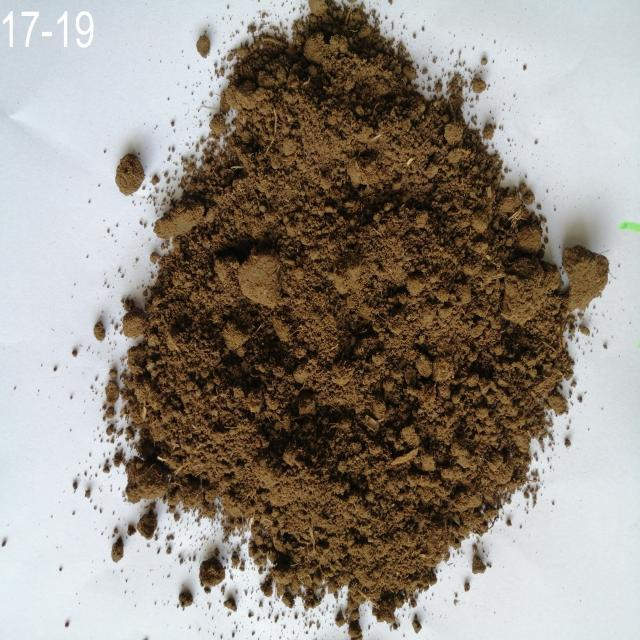soil: (248, 75, 402, 557)
